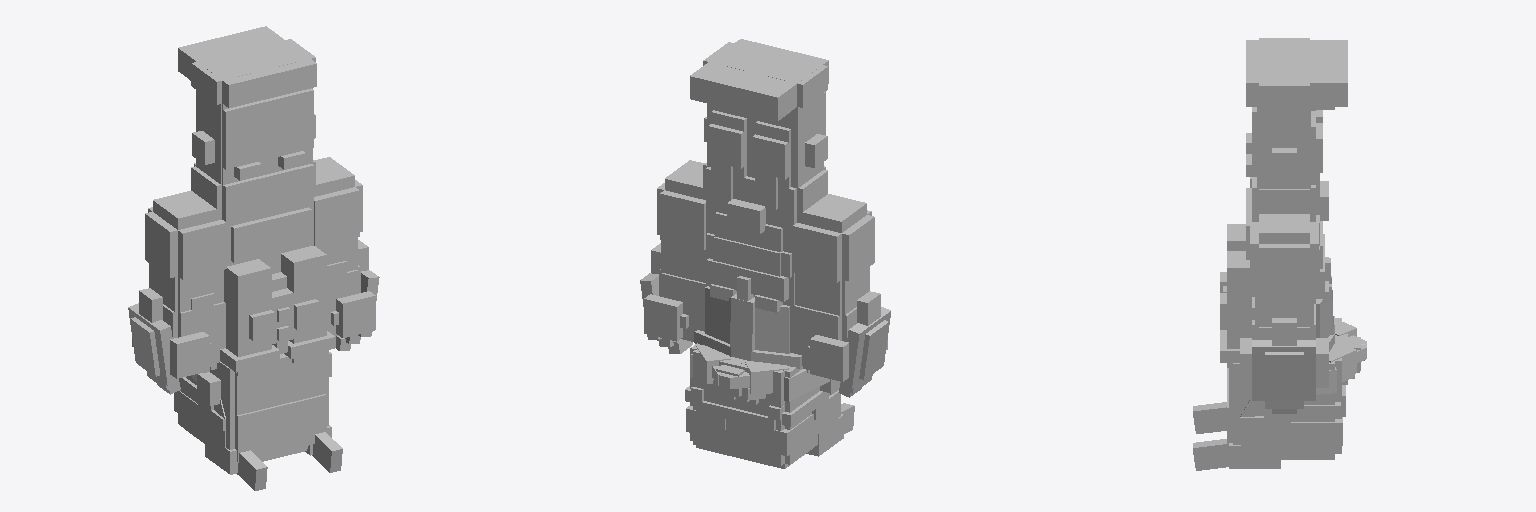
File: x02_armor.obj
3 renders of one model, left to right at view 1: azimuth 30°, elevation 25°; view 2: azimuth 150°, elevation 25°; view 3: azimuth 270°, elevation 25°, orthographic.
Parts seen in each view (by area): view 1: Body, RightArm, Head, LeftArm, RightLeg, LeftLeg, RightBoot, LeftBoot; view 2: RightArm, Head, Body, LeftArm, RightLeg, RightBoot, LeftLeg, LeftBoot; view 3: LeftArm, Head, LeftLeg, Body, LeftBoot, RightBoot.
Boxes of the visible parts, box(x1,y1,x2,y2) form: Body: box(220, 200, 335, 376); RightArm: box(128, 191, 226, 394); Head: box(174, 350, 342, 490); LeftArm: box(314, 157, 379, 350); RightLeg: box(191, 90, 269, 221); LeftLeg: box(267, 88, 315, 210); RightBoot: box(178, 37, 272, 107); LeftBoot: box(223, 26, 316, 96); RightArm: box(793, 194, 890, 397); Head: box(685, 343, 854, 468); Body: box(694, 199, 801, 368); LeftArm: box(640, 160, 705, 353); RightLeg: box(750, 92, 827, 224); RightBoot: box(734, 50, 828, 120); LeftLeg: box(703, 104, 751, 207); LeftBoot: box(690, 39, 784, 109); LeftArm: box(1240, 214, 1328, 413); Head: box(1193, 316, 1366, 470); LeftLeg: box(1246, 107, 1322, 221); Body: box(1220, 181, 1334, 367); LeftBoot: box(1246, 62, 1347, 109); RightBoot: box(1246, 38, 1347, 61).
Size of the model in its own units: 20.56 by 33.54 by 13.69.